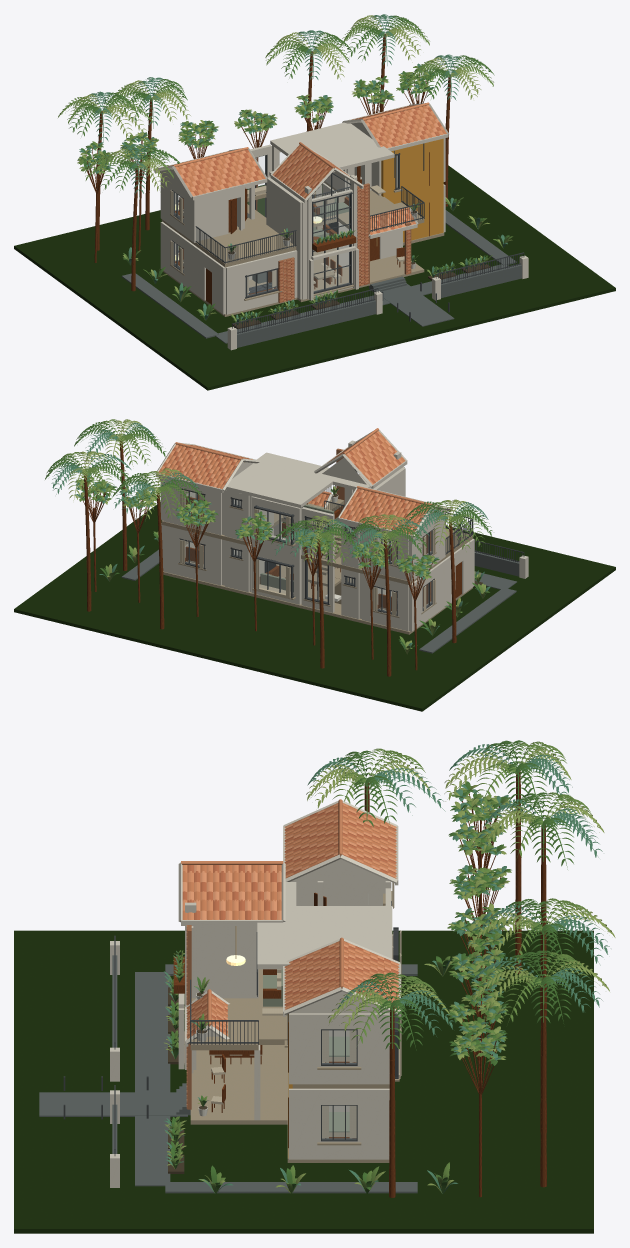
Rendered from house.glb.
The picture shows the model from 3 angles, top to bottom: view 1: azimuth 30°, elevation 25°; view 2: azimuth 150°, elevation 25°; view 3: azimuth 270°, elevation 25°; orthographic projection. The views are drawn at different scales.
Visible parts, largest first — view 1: Site / Site lawn | Garden lawn, Site / Foliage | Leaf 0, Site / Foliage | Leaf 2, Site / Foliage | Leaf 1, Site / Foliage | Leaf 3, Facade / Ochre feature | Ochre plaster, First / Upper floor slab | Pale travertine, Ground / Windows Glass | Window glass, Site / Compound wall | Silver limestone, First / Metal railing | Charcoal aluminium, Roof / Clay roof tiles | Clay 0, Roof / Clay roof tiles | Clay 2 (+33 smaller); view 2: Site / Site lawn | Garden lawn, Site / Foliage | Leaf 0, Site / Foliage | Leaf 1, Site / Foliage | Leaf 3, Site / Foliage | Leaf 2, Ground / Bedroom rear | Ivory plaster, Site / Palm trunks | Warm teak, Ground / Windows Glass | Window glass, First / Bedroom rear | Ivory plaster, Ground / Formal rear | Ivory plaster, Roof / Clay roof tiles | Clay 0, Roof / Clay roof tiles | Clay 2 (+28 smaller); view 3: Site / Site lawn | Garden lawn, Site / Foliage | Leaf 0, Site / Foliage | Leaf 2, Site / Foliage | Leaf 3, Site / Foliage | Leaf 1, Site / Front paving | Silver limestone, Ground / Bedroom side | Ivory plaster, First / Bedroom side | Ivory plaster, Roof / Clay roof tiles | Clay 0, Roof / Clay roof tiles | Clay 1, Roof / Clay roof tiles | Clay 2, Roof / Clay roof tiles | Clay 3 (+25 smaller).
Boxes of the visible parts, bbox=[...] form: Site / Site lawn | Garden lawn: bbox=[14, 165, 615, 390]; Site / Foliage | Leaf 0: bbox=[69, 15, 509, 325]; Site / Foliage | Leaf 2: bbox=[74, 15, 512, 321]; Site / Foliage | Leaf 1: bbox=[58, 19, 512, 324]; Site / Foliage | Leaf 3: bbox=[77, 14, 507, 324]; Facade / Ochre feature | Ochre plaster: bbox=[381, 138, 443, 242]; First / Upper floor slab | Pale travertine: bbox=[161, 181, 424, 267]; Ground / Windows Glass | Window glass: bbox=[174, 152, 349, 295]; Site / Compound wall | Silver limestone: bbox=[237, 264, 521, 347]; First / Metal railing | Charcoal aluminium: bbox=[195, 186, 424, 263]; Roof / Clay roof tiles | Clay 0: bbox=[168, 105, 446, 234]; Roof / Clay roof tiles | Clay 2: bbox=[175, 105, 441, 233]; Site / Site lawn | Garden lawn: bbox=[14, 502, 615, 711]; Site / Foliage | Leaf 0: bbox=[45, 422, 492, 652]; Site / Foliage | Leaf 1: bbox=[62, 419, 488, 652]; Site / Foliage | Leaf 3: bbox=[51, 422, 490, 648]; Site / Foliage | Leaf 2: bbox=[68, 419, 485, 654]; Ground / Bedroom rear | Ivory plaster: bbox=[164, 525, 408, 631]; Site / Palm trunks | Warm teak: bbox=[84, 441, 456, 676]; Ground / Windows Glass | Window glass: bbox=[185, 472, 432, 612]; First / Bedroom rear | Ivory plaster: bbox=[164, 479, 408, 580]; Ground / Formal rear | Ivory plaster: bbox=[251, 496, 301, 604]; Roof / Clay roof tiles | Clay 0: bbox=[159, 434, 437, 531]; Roof / Clay roof tiles | Clay 2: bbox=[162, 432, 428, 534]; Site / Site lawn | Garden lawn: bbox=[14, 930, 593, 1233]; Site / Foliage | Leaf 0: bbox=[170, 740, 574, 1193]; Site / Foliage | Leaf 2: bbox=[164, 748, 615, 1193]; Site / Foliage | Leaf 3: bbox=[164, 744, 609, 1193]; Site / Foliage | Leaf 1: bbox=[169, 741, 595, 1193]; Site / Front paving | Silver limestone: bbox=[135, 972, 170, 1186]; Ground / Bedroom side | Ivory plaster: bbox=[289, 1088, 389, 1159]; First / Bedroom side | Ivory plaster: bbox=[289, 1013, 389, 1084]; Roof / Clay roof tiles | Clay 0: bbox=[182, 805, 399, 1039]; Roof / Clay roof tiles | Clay 1: bbox=[182, 803, 399, 1038]; Roof / Clay roof tiles | Clay 2: bbox=[182, 810, 399, 1032]; Roof / Clay roof tiles | Clay 3: bbox=[182, 807, 398, 1032].
Size of the model in its own units: 28.27 by 9.92 by 23.87.
26 materials, 8 textured.
